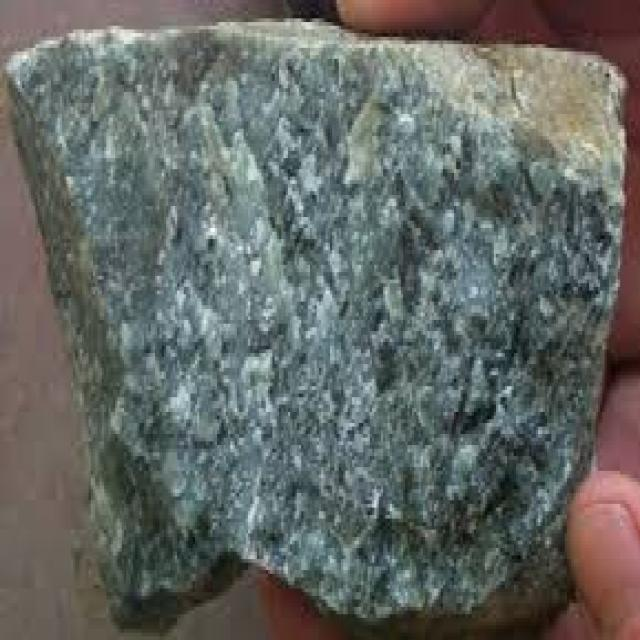Metamorphic: (2, 19, 607, 626)
